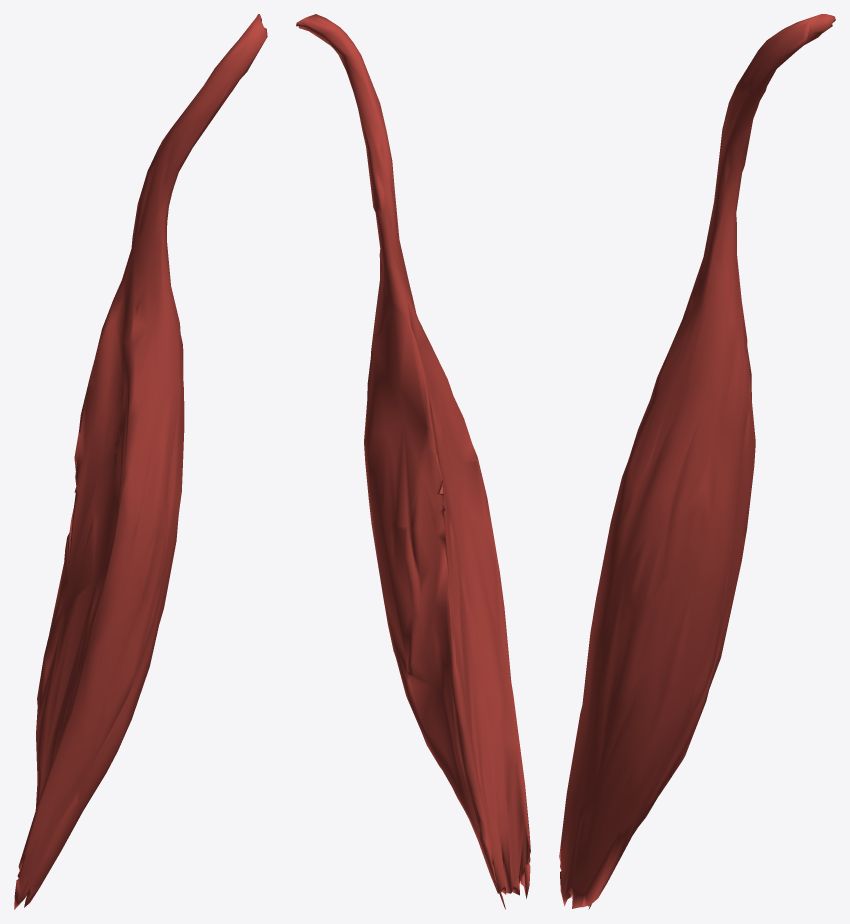
The model's file is musculos-short-head-of-biceps-brachii-r.glb.
3 views of the same model, side by side, from view 1: azimuth 30°, elevation 25°; view 2: azimuth 150°, elevation 25°; view 3: azimuth 330°, elevation 25° (orthographic). The views are drawn at different scales.
Parts seen in each view (by area): view 1: Short head of biceps brachii.r; view 2: Short head of biceps brachii.r; view 3: Short head of biceps brachii.r.
Part boxes in pixels (<box>): Short head of biceps brachii.r: <box>14,14,267,909</box>; Short head of biceps brachii.r: <box>296,14,530,909</box>; Short head of biceps brachii.r: <box>559,14,835,909</box>.
Bounding box in the file's own units: 0.0812 × 0.272 × 0.0343.
